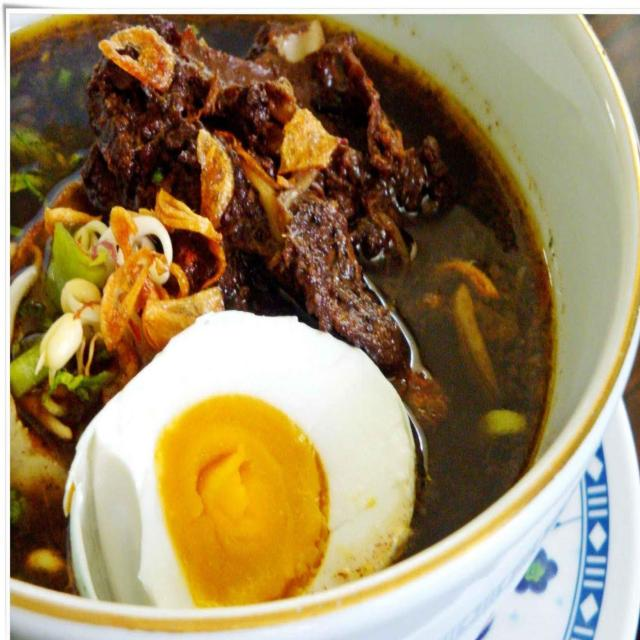Rawon: (22, 26, 544, 547)
